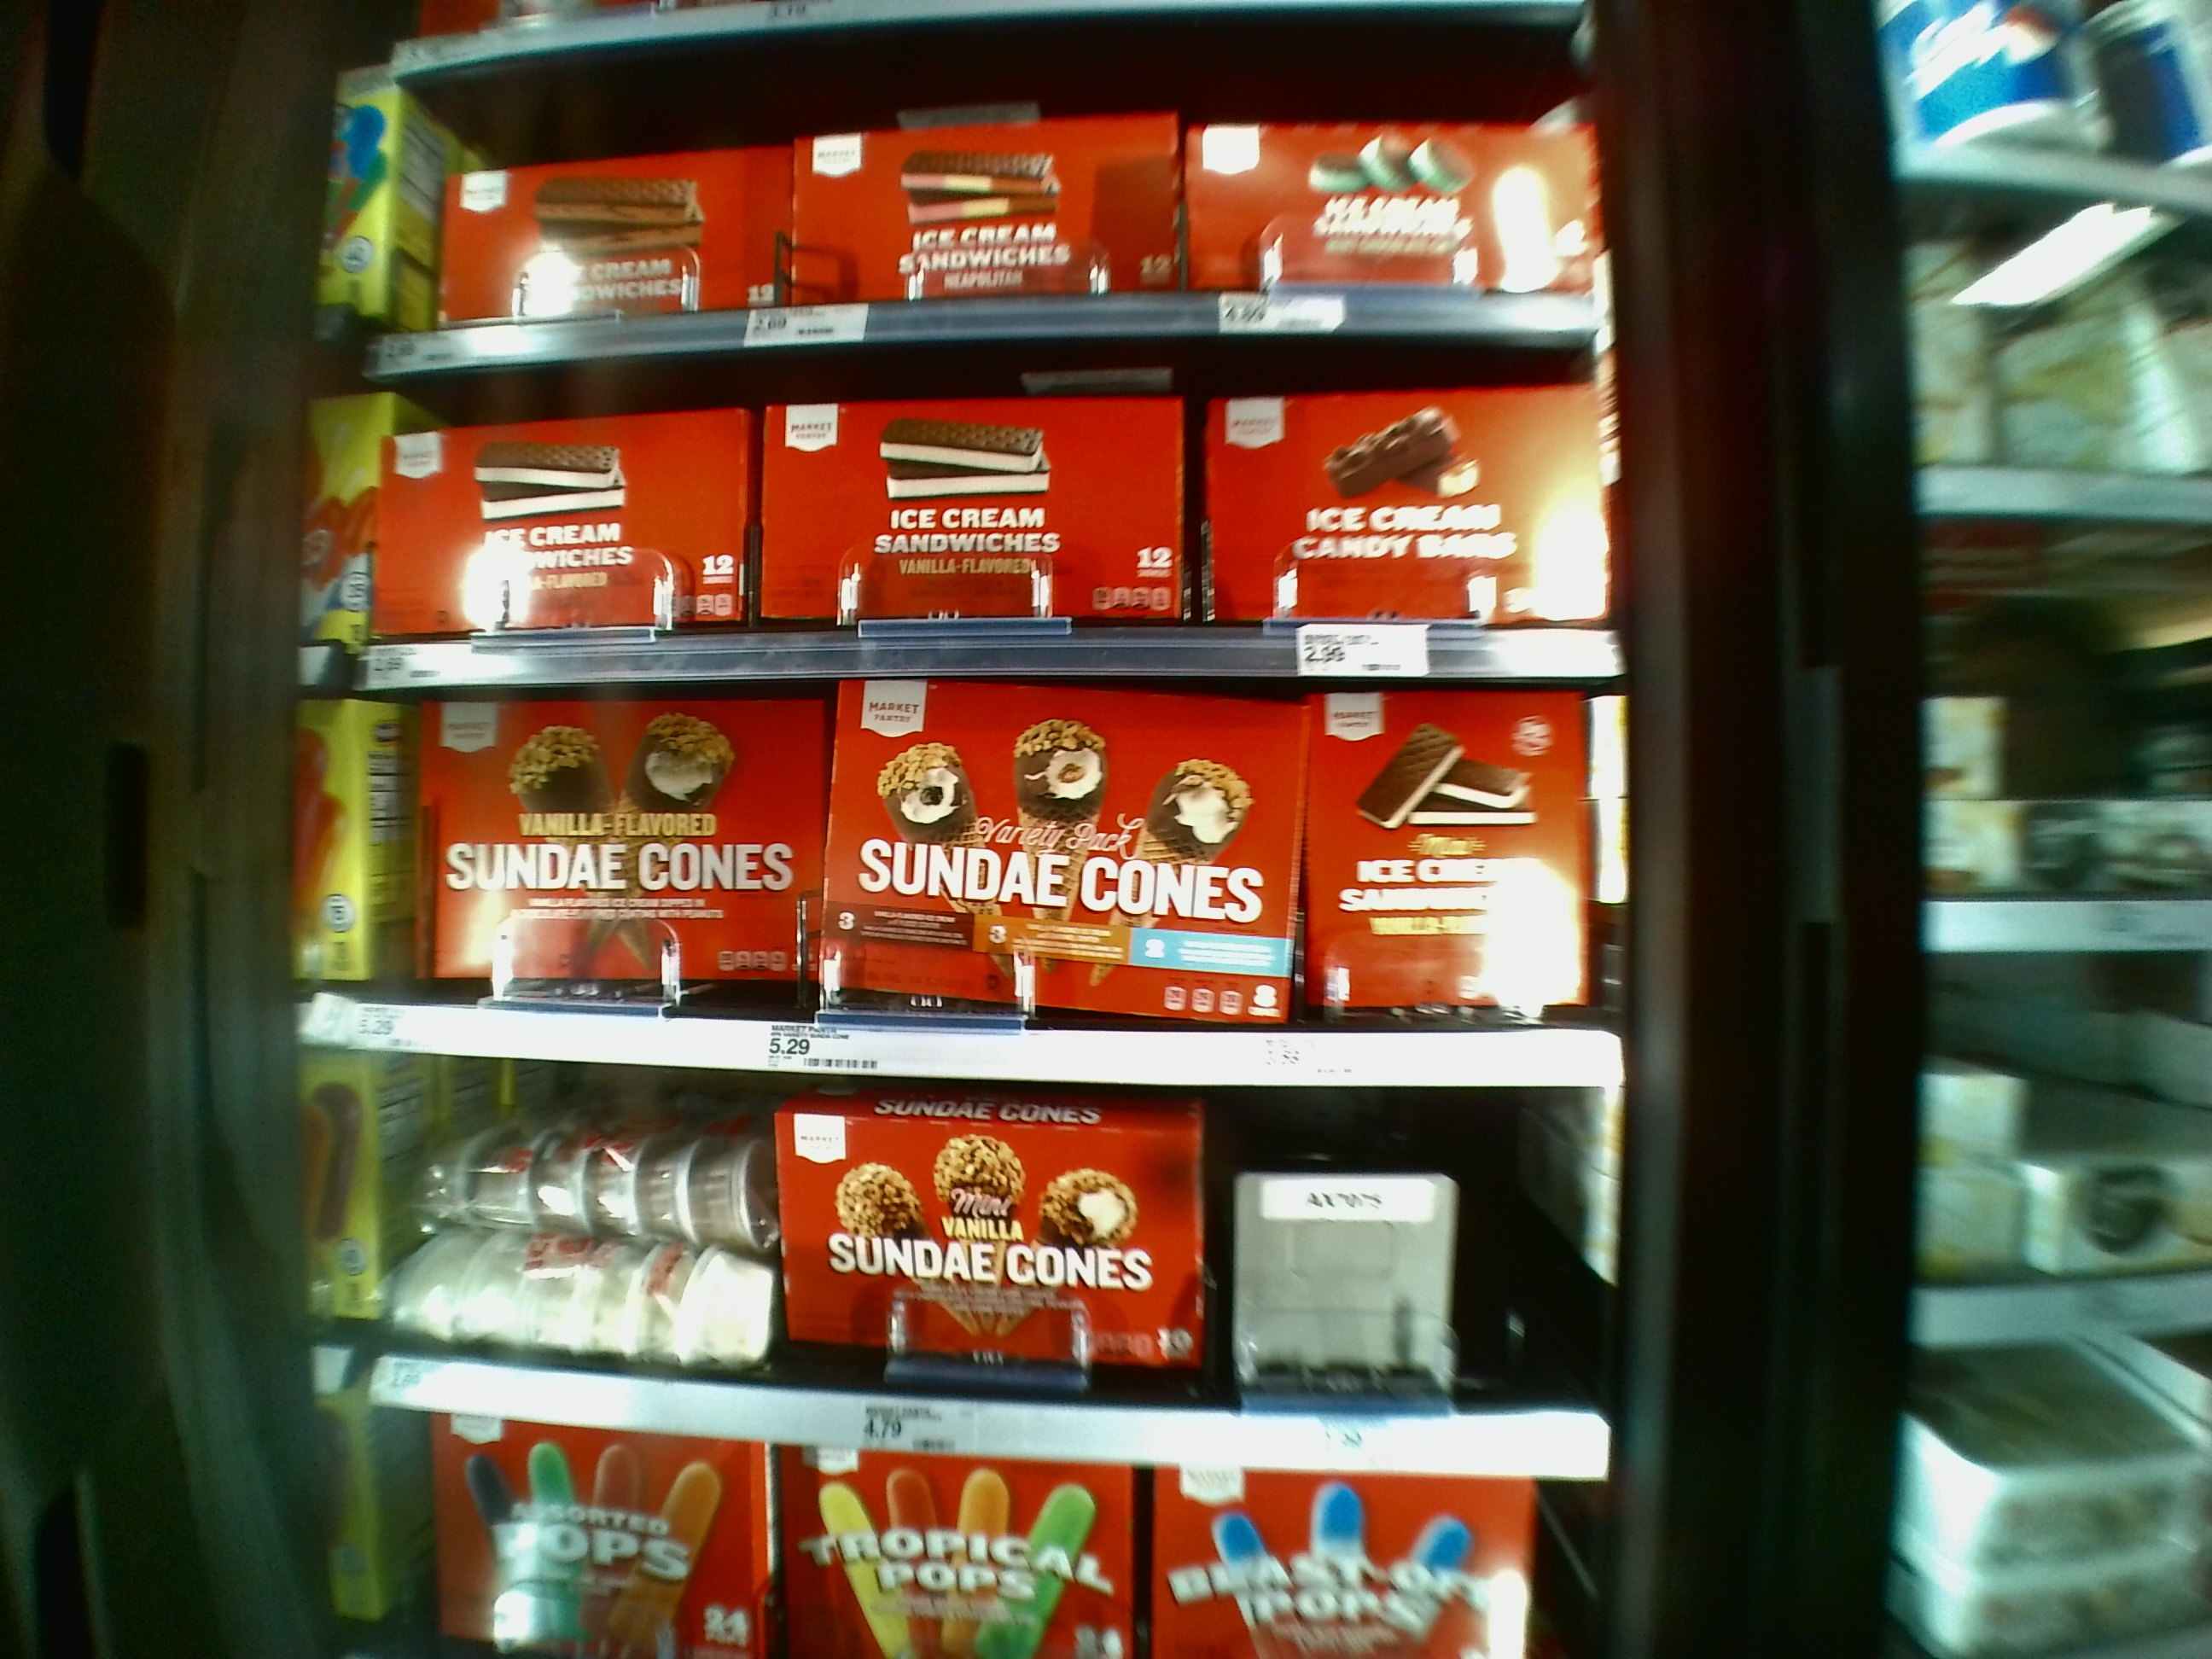shelf: (369, 1063, 1585, 1476), (362, 687, 1590, 1082), (361, 382, 1618, 694), (394, 68, 1608, 343)
